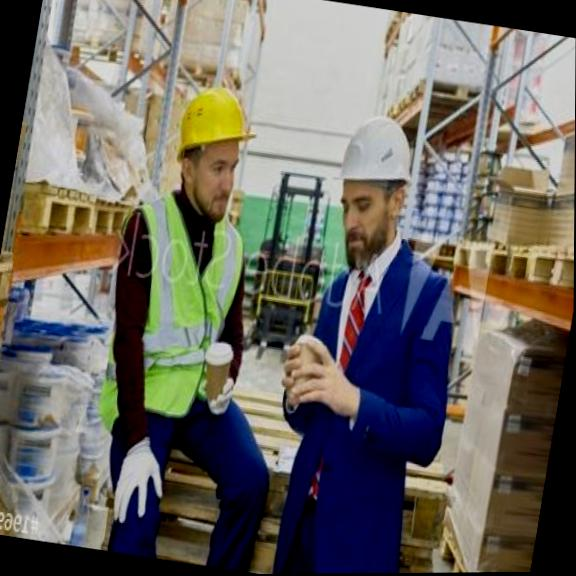no_safety_vest: (271, 239, 461, 543)
safety_vest: (90, 192, 257, 437)
